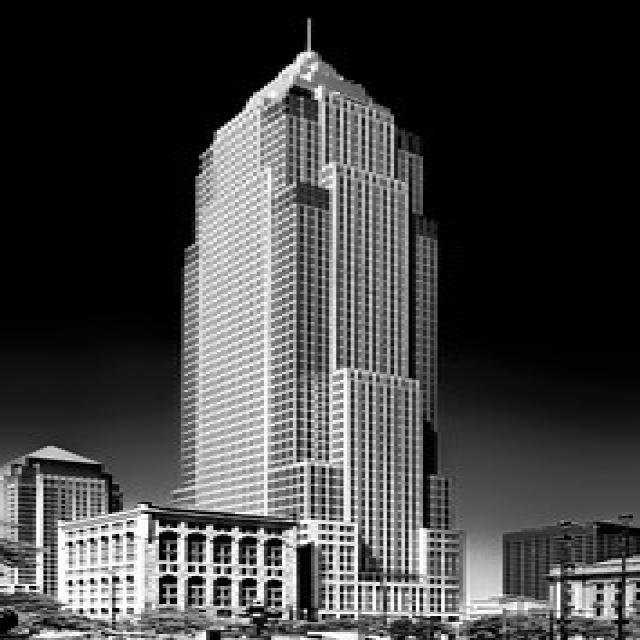building: (168, 40, 468, 632), (2, 442, 128, 630)
